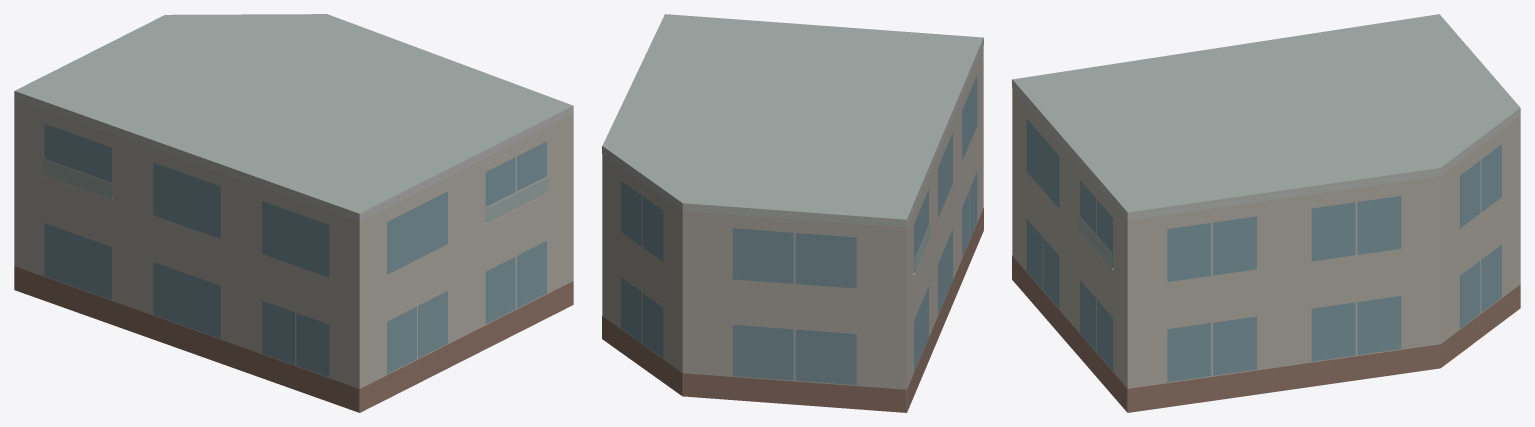
File: survey-upis-32704995.glb
The picture shows the model from 3 angles, left to right: view 1: azimuth 30°, elevation 25°; view 2: azimuth 150°, elevation 25°; view 3: azimuth 270°, elevation 25°; orthographic projection. The views are drawn at different scales.
Visible parts, largest first — view 1: survey-upis-32704995.tmp; view 2: survey-upis-32704995.tmp; view 3: survey-upis-32704995.tmp.
Part boxes in pixels (x1=…): survey-upis-32704995.tmp: x1=14, y1=14, x2=573, y2=412; survey-upis-32704995.tmp: x1=602, y1=14, x2=983, y2=412; survey-upis-32704995.tmp: x1=1012, y1=14, x2=1520, y2=412.
Bounding box in the file's own units: 12.97 × 6.1 × 14.04.
